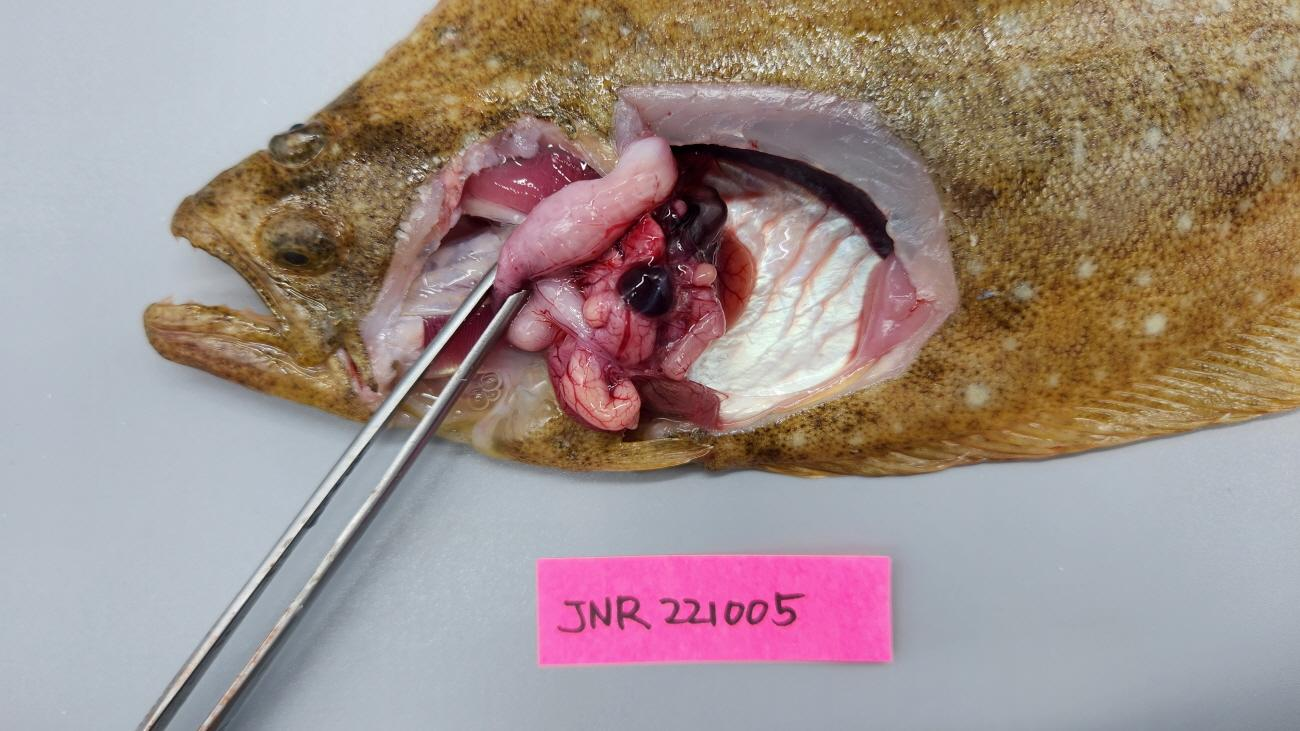POSPN: (616, 265, 674, 317)
